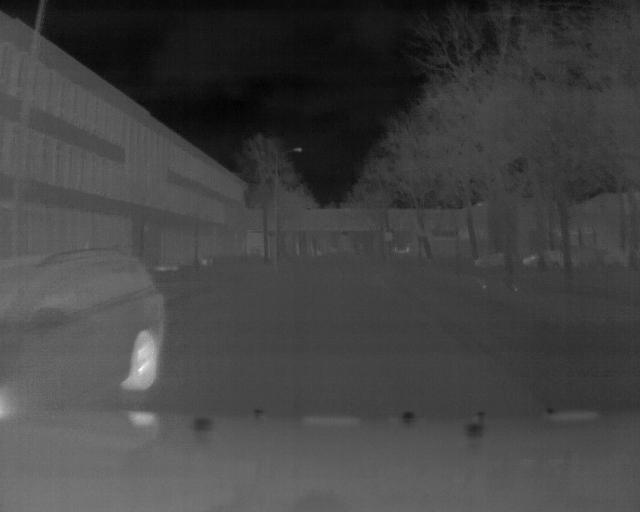car: (4, 243, 195, 415)
